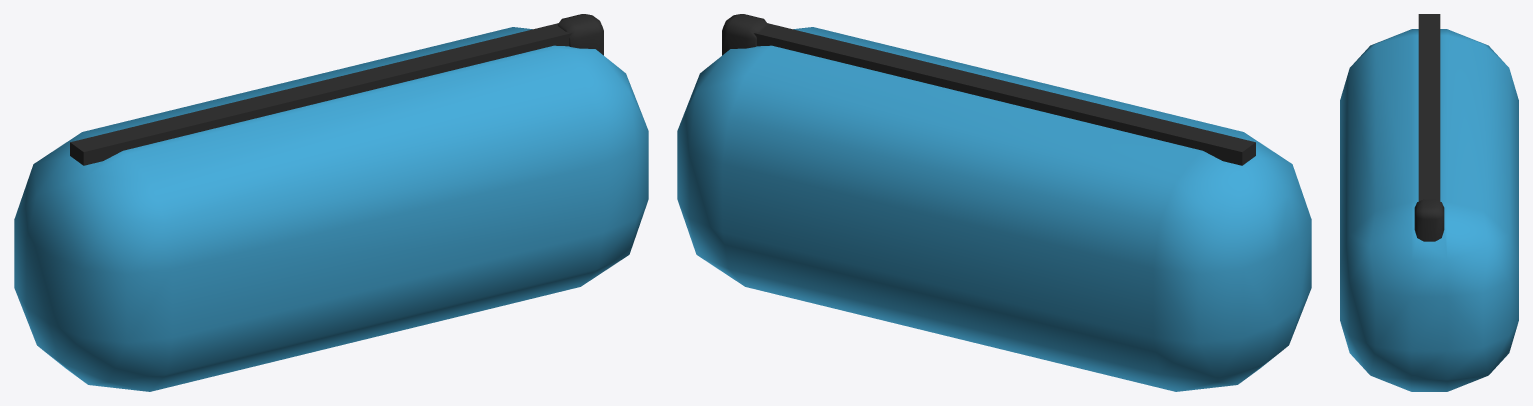
Rendered from pencil_case.glb.
3 renders of one model, left to right at view 1: azimuth 30°, elevation 25°; view 2: azimuth 150°, elevation 25°; view 3: azimuth 270°, elevation 25°, orthographic. The views are drawn at different scales.
Visible parts, largest first — view 1: pencil_case; view 2: pencil_case; view 3: pencil_case.
Part boxes in pixels (x1,y1,x2,y2): pencil_case: [14, 14, 648, 391]; pencil_case: [677, 14, 1311, 391]; pencil_case: [1340, 14, 1518, 391].
Bounding box in the file's own units: 0.09 × 0.036 × 0.03.
